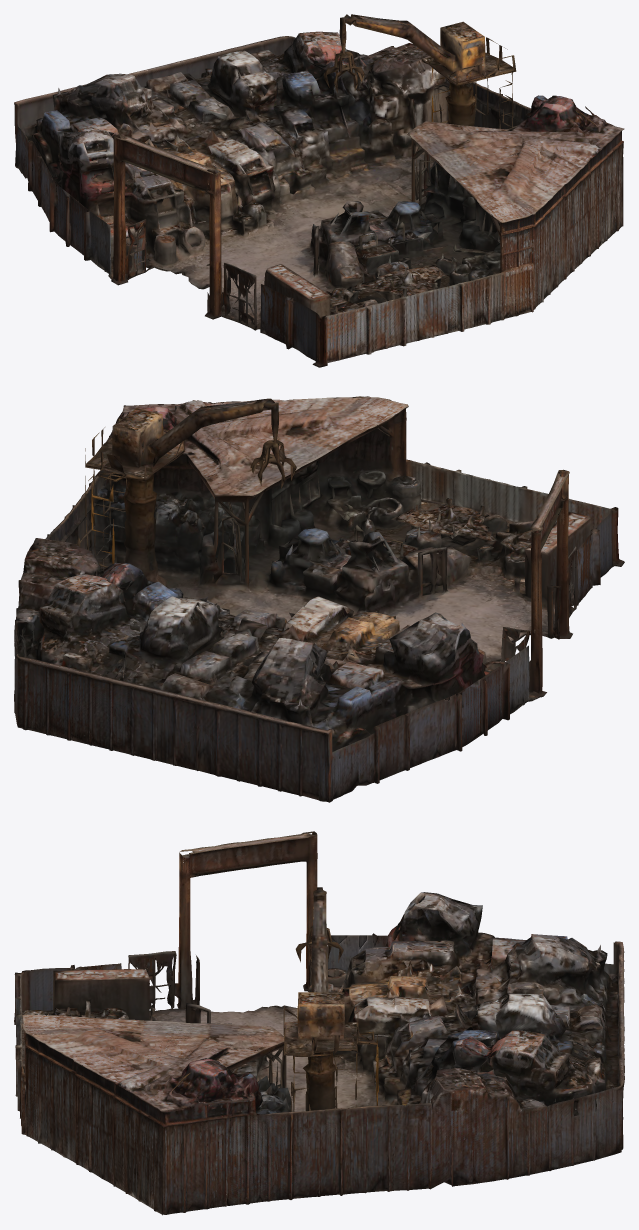
Rendered from post-apocalyptic car junkyard 3d model.glb.
3 views of the same model, one above another, from view 1: azimuth 30°, elevation 25°; view 2: azimuth 150°, elevation 25°; view 3: azimuth 270°, elevation 25° (orthographic). The views are drawn at different scales.
Visible parts, largest first — view 1: tripo_node_6faa225c-de88-4daf-85ca-8f0a5a68ff43; view 2: tripo_node_6faa225c-de88-4daf-85ca-8f0a5a68ff43; view 3: tripo_node_6faa225c-de88-4daf-85ca-8f0a5a68ff43.
Boxes of the visible parts, <box> form: tripo_node_6faa225c-de88-4daf-85ca-8f0a5a68ff43: <box>14,14,624,367</box>; tripo_node_6faa225c-de88-4daf-85ca-8f0a5a68ff43: <box>14,396,624,802</box>; tripo_node_6faa225c-de88-4daf-85ca-8f0a5a68ff43: <box>14,831,624,1215</box>.
Bounding box in the file's own units: 0.895 × 0.3963 × 0.9992.
Materials: 1 (1 with a texture image).
